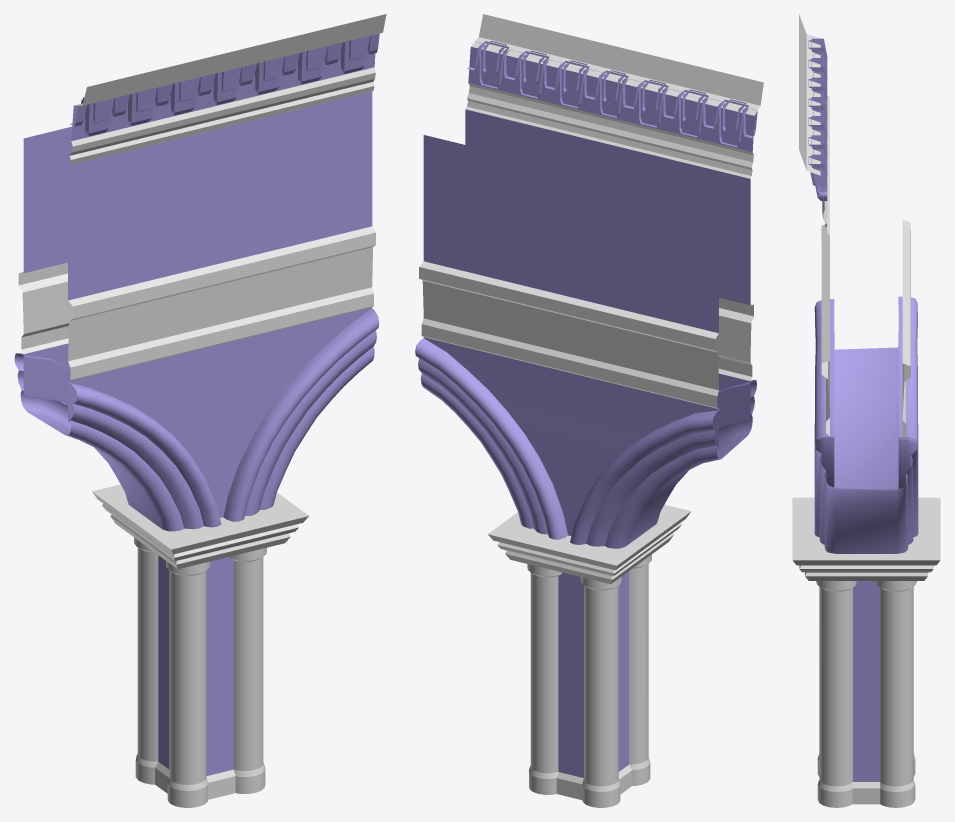
The model's file is Arch Middle.fbx.
3 renders of one model, left to right at view 1: azimuth 30°, elevation 25°; view 2: azimuth 150°, elevation 25°; view 3: azimuth 270°, elevation 25°, orthographic. The views are drawn at different scales.
Parts seen in each view (by area): view 1: Arch Middle_LOD0; view 2: Arch Middle_LOD0; view 3: Arch Middle_LOD0.
Part boxes in pixels (box(x1,y1,x2,y2)): Arch Middle_LOD0: box(14, 14, 386, 807); Arch Middle_LOD0: box(415, 14, 763, 807); Arch Middle_LOD0: box(792, 14, 940, 807).
Size of what is drawn, in the model's own units: 370 by 844 by 161.
